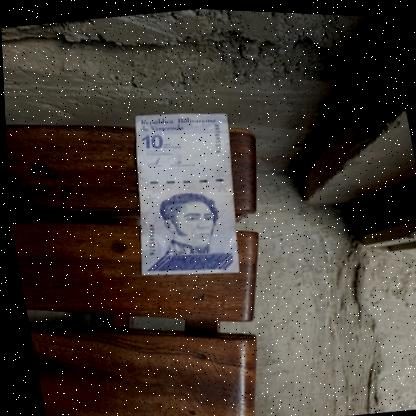ten-front-vef: (109, 99, 253, 283)
